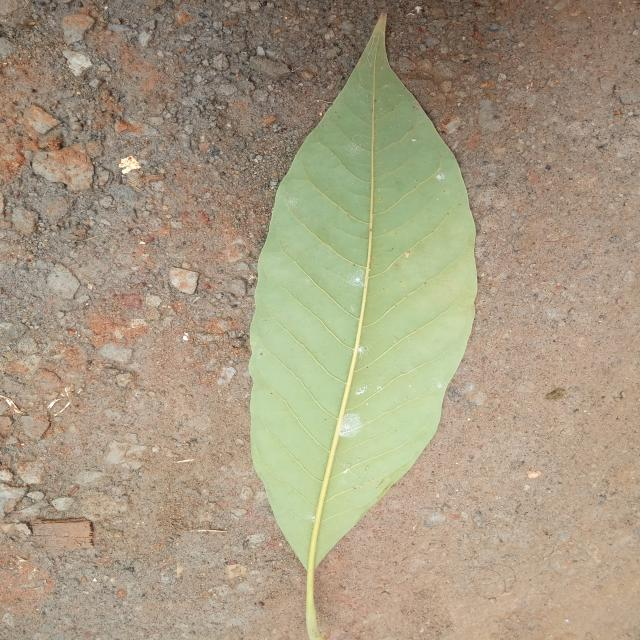coffee: (248, 14, 477, 640)
